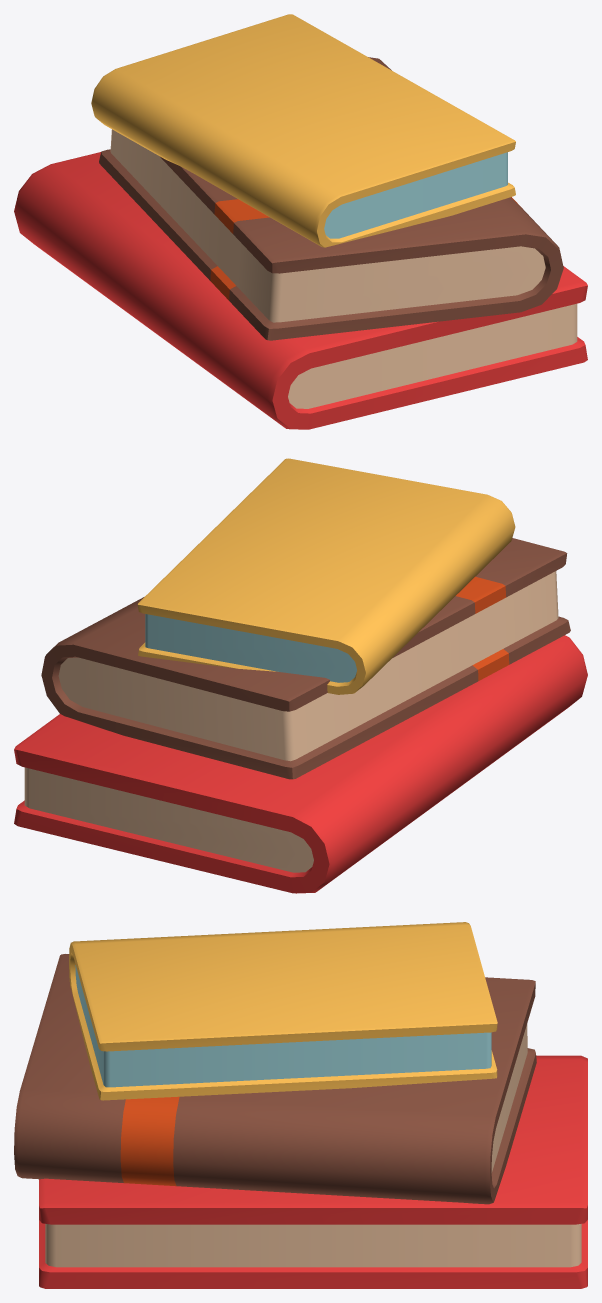
File: book_08.glb
The picture shows the model from 3 angles, top to bottom: view 1: azimuth 30°, elevation 25°; view 2: azimuth 150°, elevation 25°; view 3: azimuth 270°, elevation 25°; orthographic projection. The views are drawn at different scales.
Visible parts, largest first — view 1: Book_08; view 2: Book_08; view 3: Book_08.
Part boxes in pixels (bbox=[...]): Book_08: bbox=[14, 14, 587, 429]; Book_08: bbox=[14, 458, 587, 893]; Book_08: bbox=[14, 922, 587, 1288].
Bounding box in the file's own units: 0.2462 × 0.1483 × 0.3414.
1 material, 1 textured.
